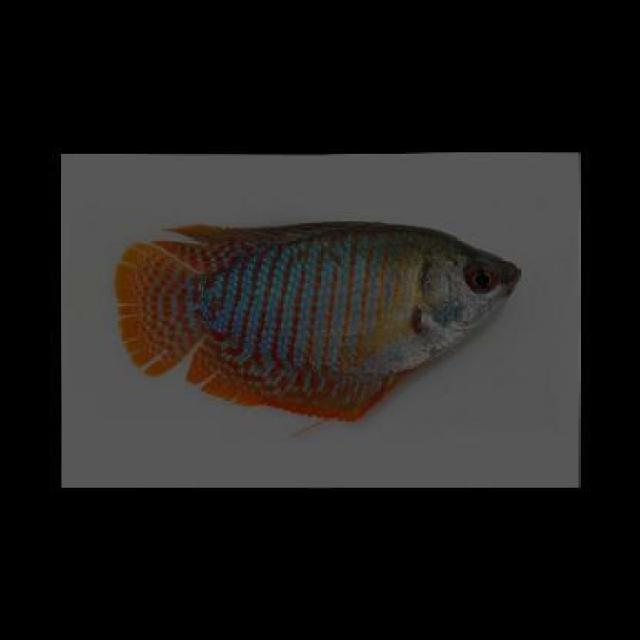Gourami: (116, 214, 518, 426)
